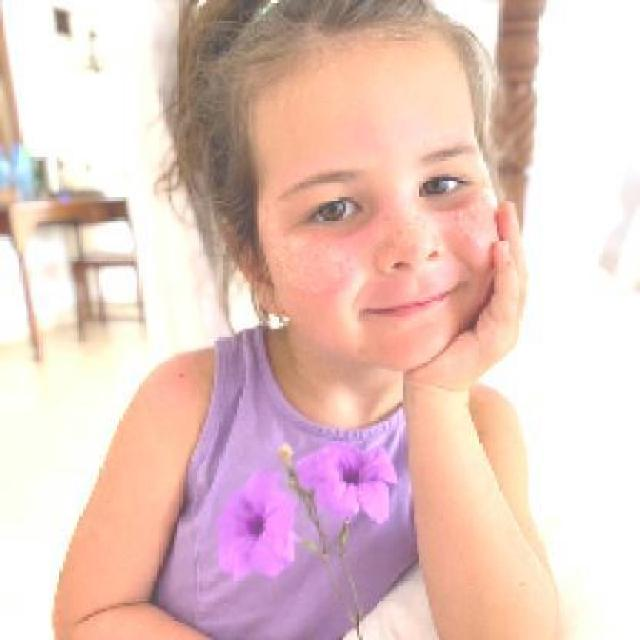child: (48, 0, 563, 637)
